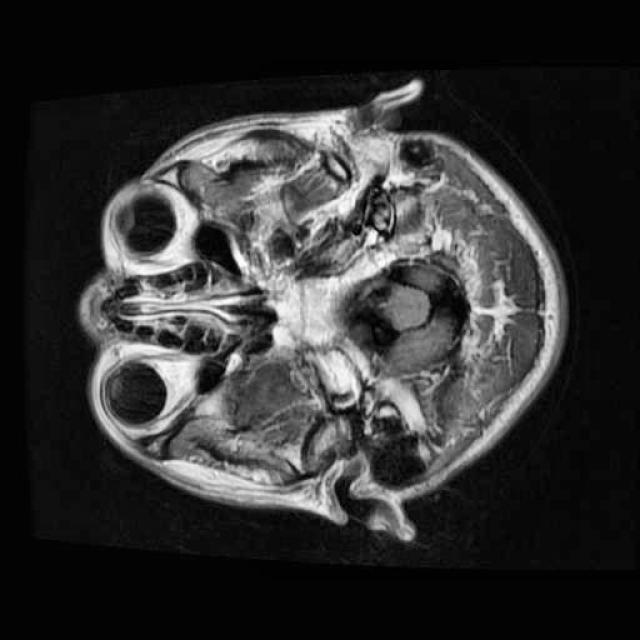Tumor: (339, 248, 482, 386)
